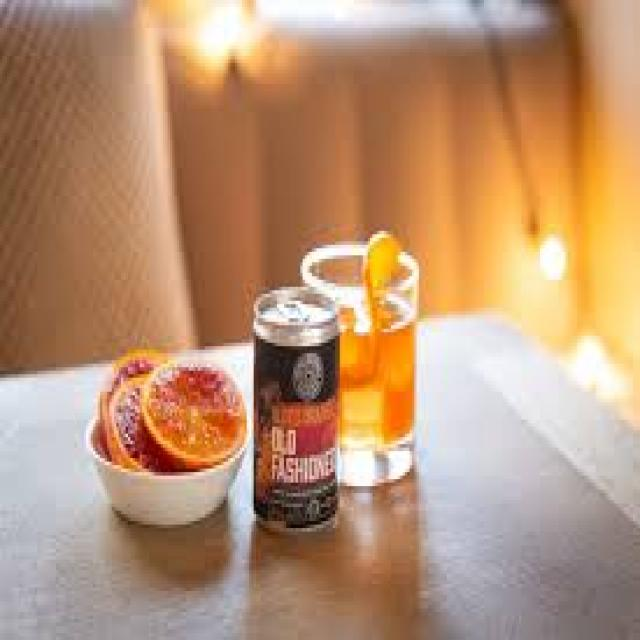Cans: (249, 280, 344, 535)
